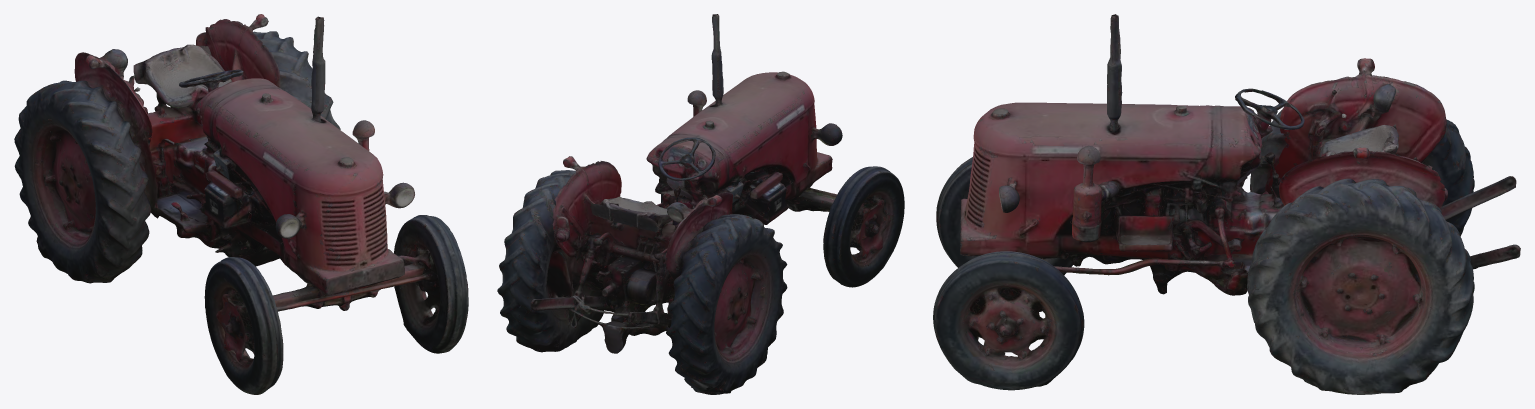
File: tractor-fast-v1.glb
3 renders of one model, left to right at view 1: azimuth 30°, elevation 25°; view 2: azimuth 150°, elevation 25°; view 3: azimuth 270°, elevation 25°, orthographic. The views are drawn at different scales.
Parts seen in each view (by area): view 1: Object_2; view 2: Object_2; view 3: Object_2.
Boxes of the visible parts, x1,y1,x2,y2 form: Object_2: (14,14,468,394); Object_2: (497,14,904,394); Object_2: (933,14,1520,394).
Size of the model in its own units: 10.8 by 13.39 by 20.9.
Materials: 1 (1 with a texture image).
